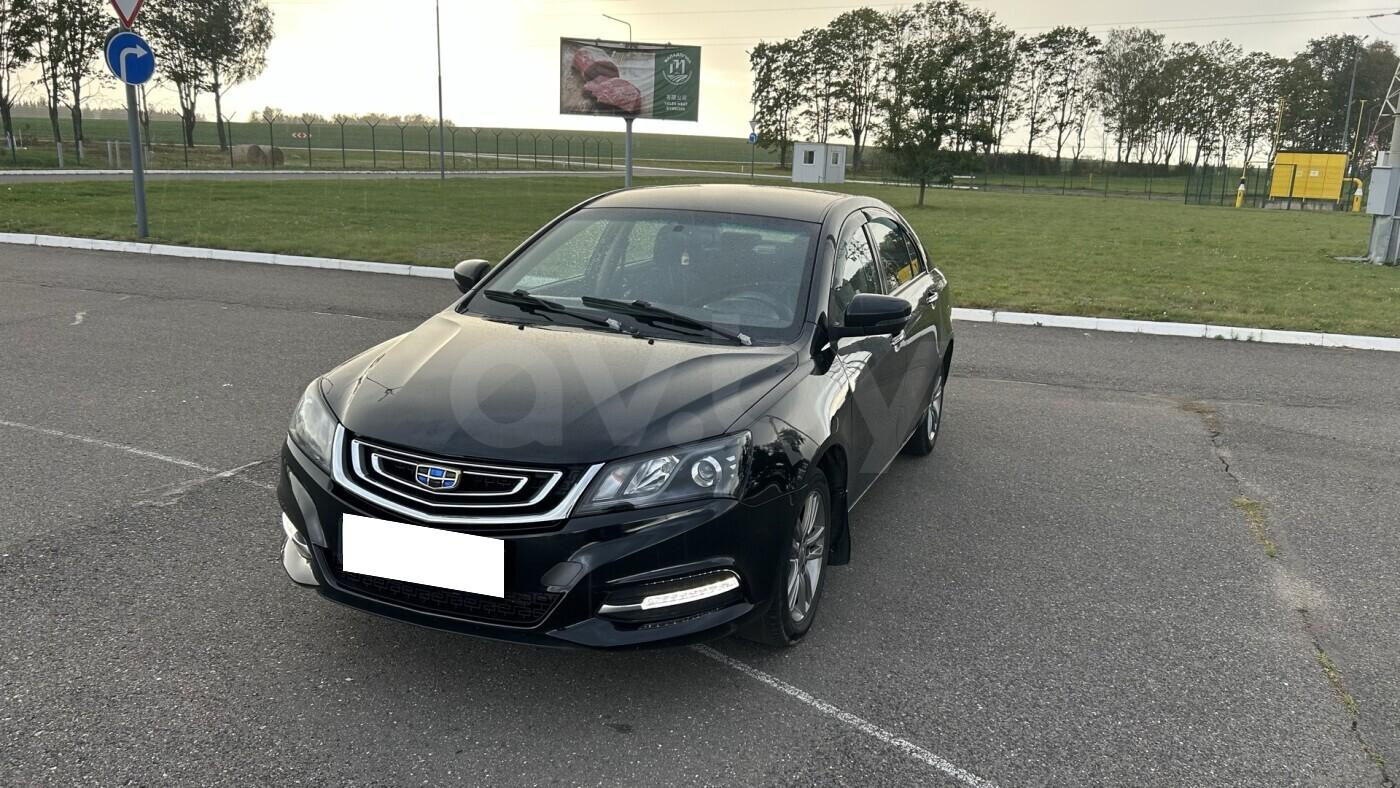Emgrand_2019-2021: (279, 184, 954, 648)
